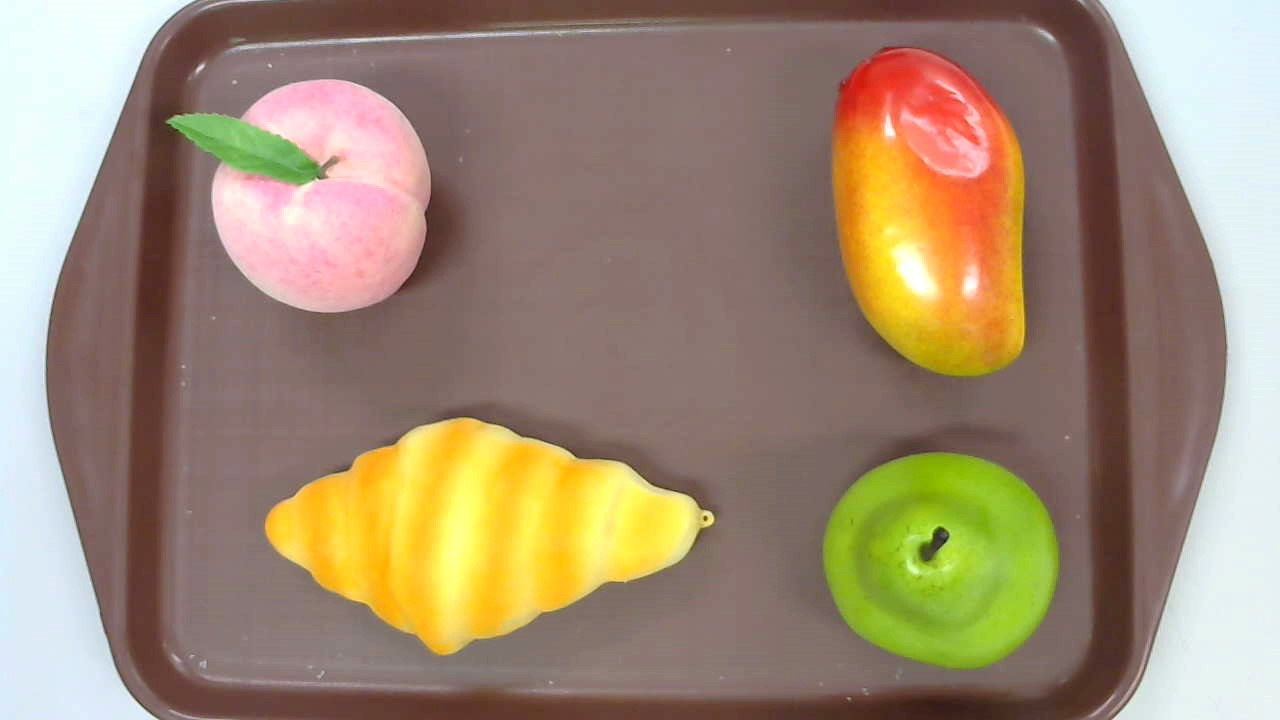croissant: (263, 417, 715, 655)
green pear: (822, 451, 1059, 667)
peach: (166, 78, 431, 314)
red mango: (832, 46, 1027, 378)
